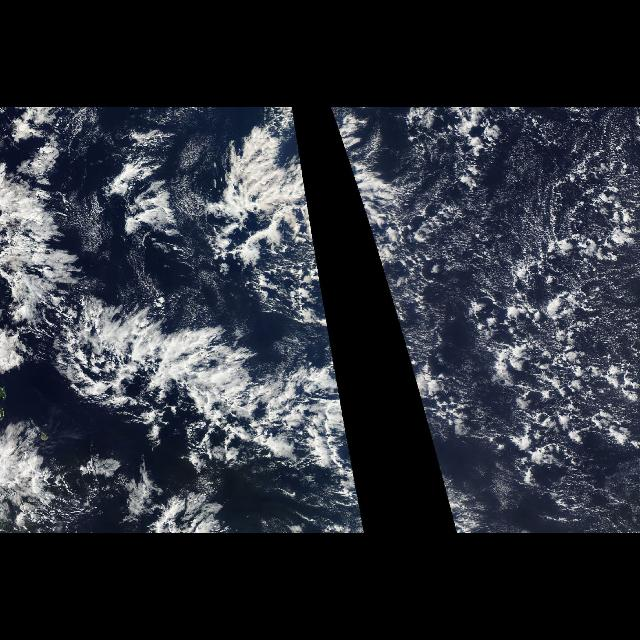Fish: (1, 121, 363, 526), (334, 121, 430, 409)
Gravel: (479, 158, 639, 520)
Sugar: (462, 110, 636, 516)
